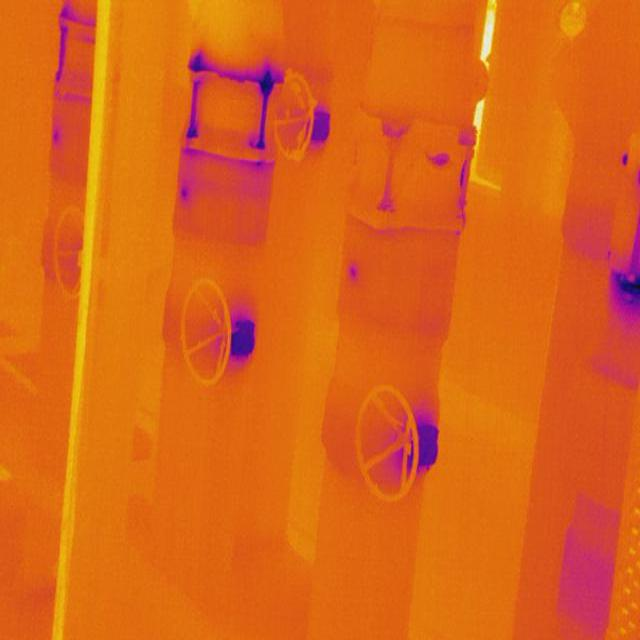leakage: (418, 138, 454, 176), (346, 257, 365, 284), (176, 181, 194, 208), (48, 128, 65, 144)
